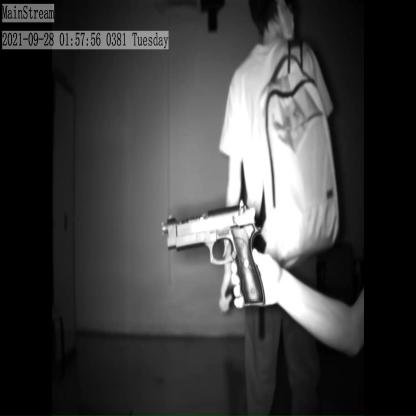weapon: (162, 199, 264, 311)
